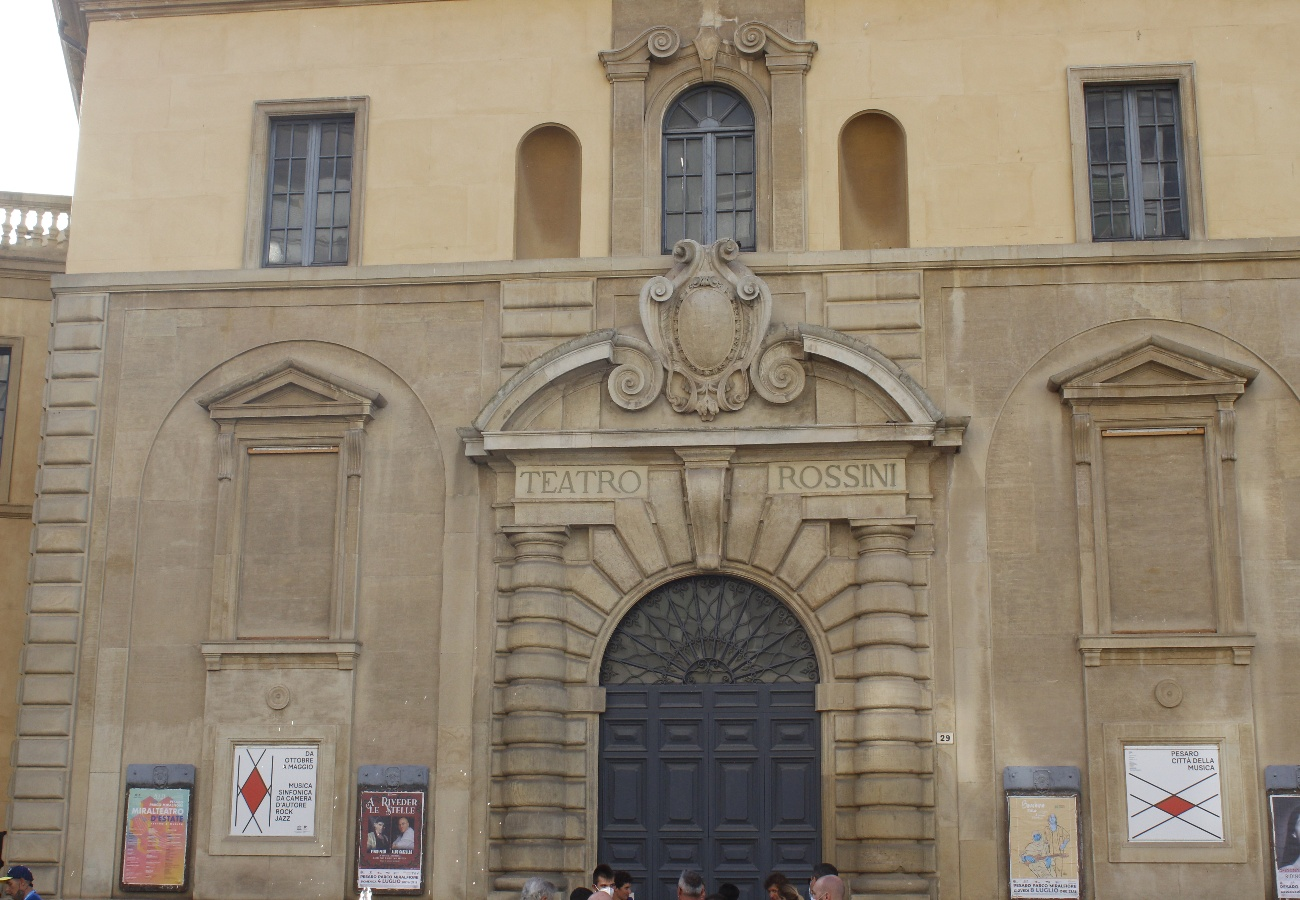Teatro Rossini: (86, 37, 1283, 896)
